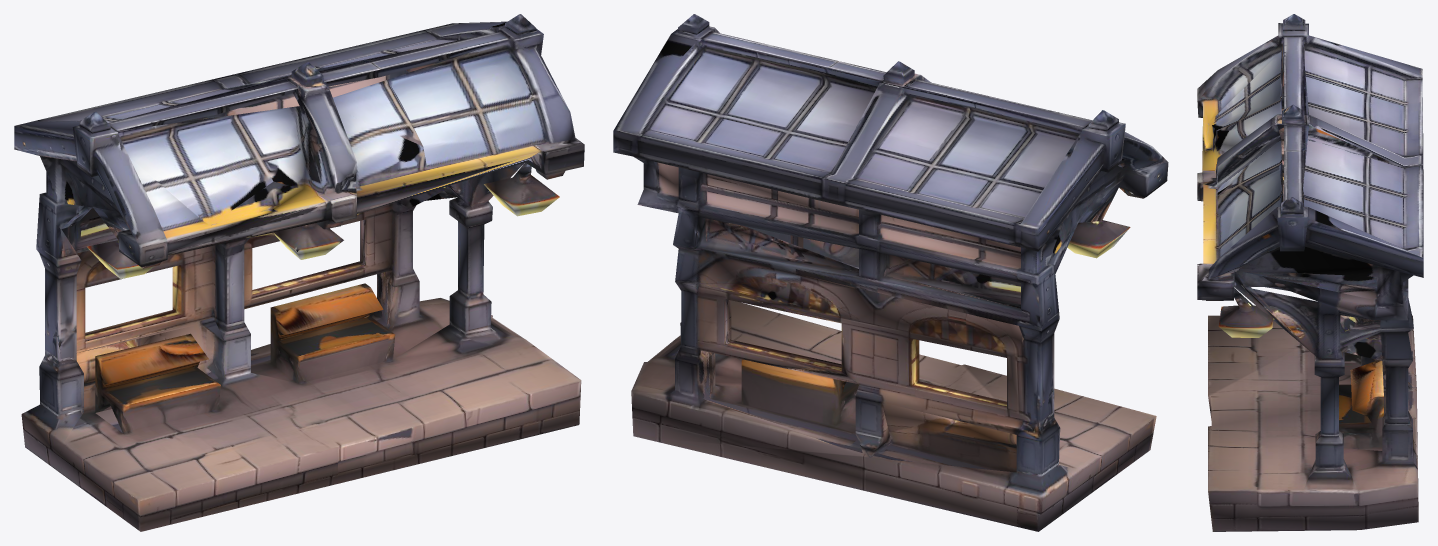
The model's file is 06-platform-canopy.fbx.
3 renders of one model, left to right at view 1: azimuth 30°, elevation 25°; view 2: azimuth 150°, elevation 25°; view 3: azimuth 270°, elevation 25°, orthographic. The views are drawn at different scales.
Visible parts, largest first — view 1: tripo_node_30b6fa78; view 2: tripo_node_30b6fa78; view 3: tripo_node_30b6fa78.
Part boxes in pixels (x1,y1,x2,y2): tripo_node_30b6fa78: (14,14,584,531); tripo_node_30b6fa78: (613,14,1168,531); tripo_node_30b6fa78: (1197,14,1423,531).
Bounding box in the file's own units: 800 × 650 × 400.
Materials: 1 (1 with a texture image).
